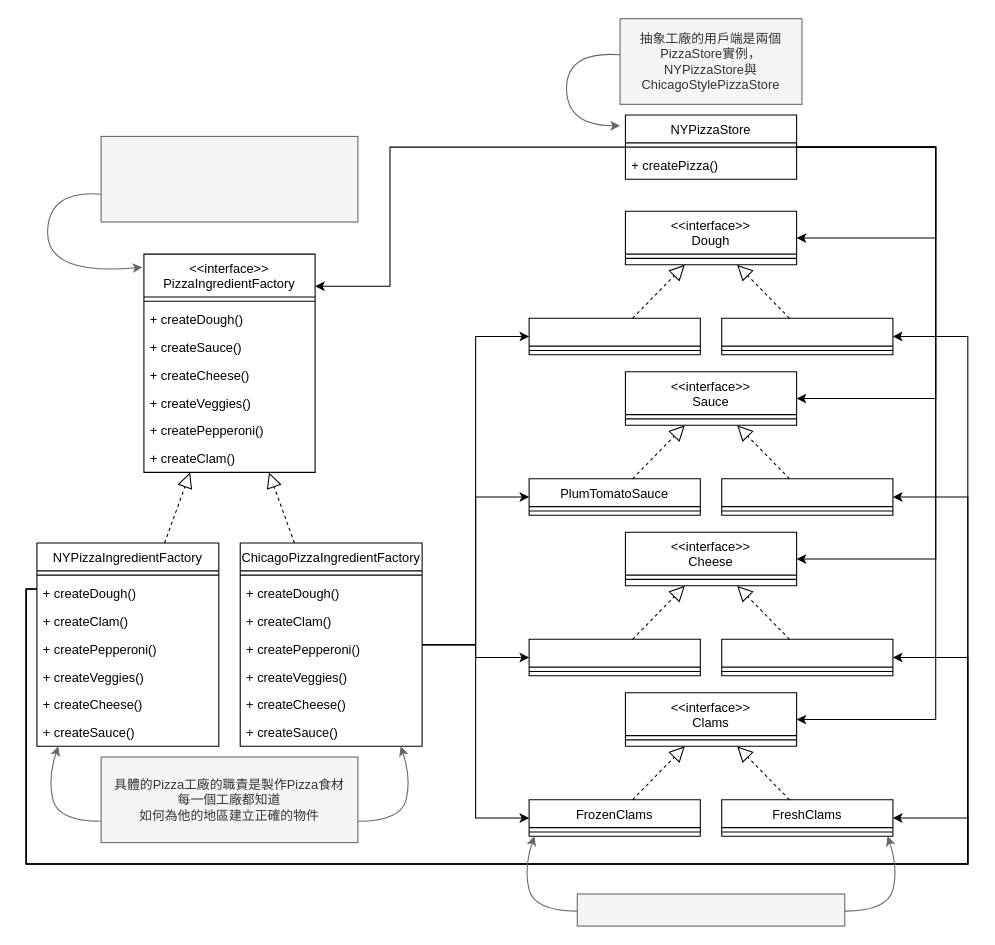
The diagram is 995 pixels wide and 945 high, and some of its shapes have lost their labels. The centre of each missing label's shape, as x and y in pixels:
"MarinaraSause" goes at pixel 807 496.
"MozzarellaCheese" goes at pixel 614 657.
"ReggianoCheese" goes at pixel 807 657.
"ThickCrusDough" goes at pixel 614 336.
"ThinCrusDough" goes at pixel 807 336.
"抽象的PizzaIngredientFactory是一個介面，他定義如何製作一系列相關的產品， 也就是Pizza的所有原料" goes at pixel 229 178.
"每一個工廠都會產生一系列產品的不同實作" goes at pixel 710 909.
